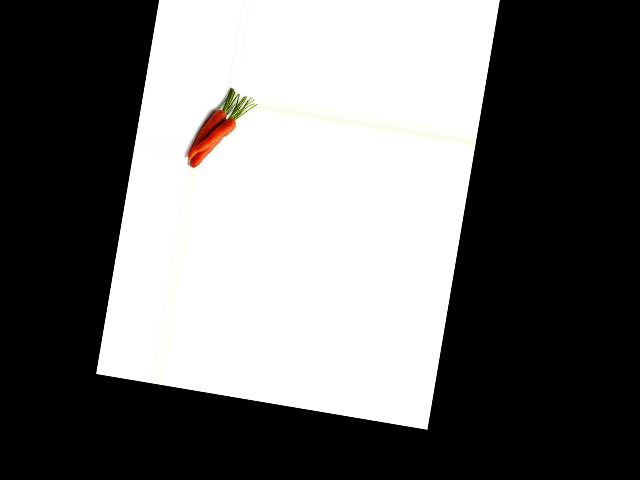carrot: (189, 131, 222, 171)
